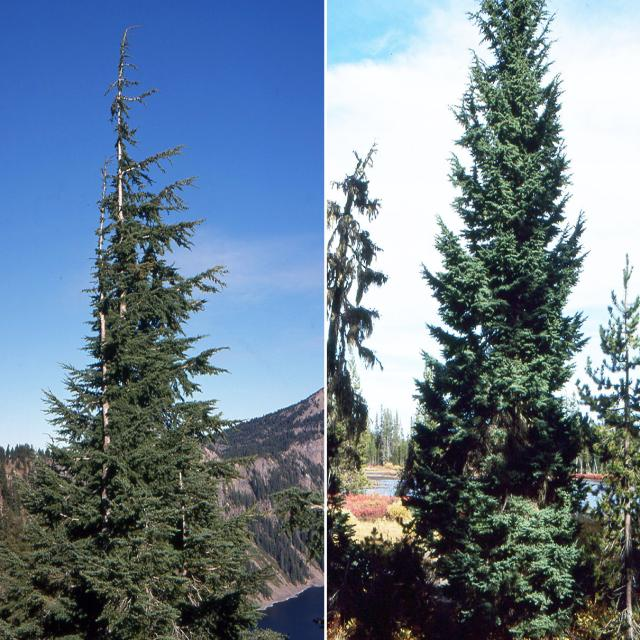Tsuga mertensiana: (38, 7, 248, 640), (409, 0, 599, 640)
